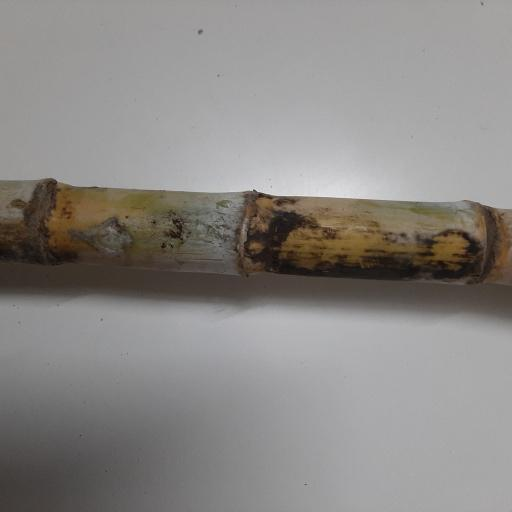Bud: (242, 239, 265, 258)
